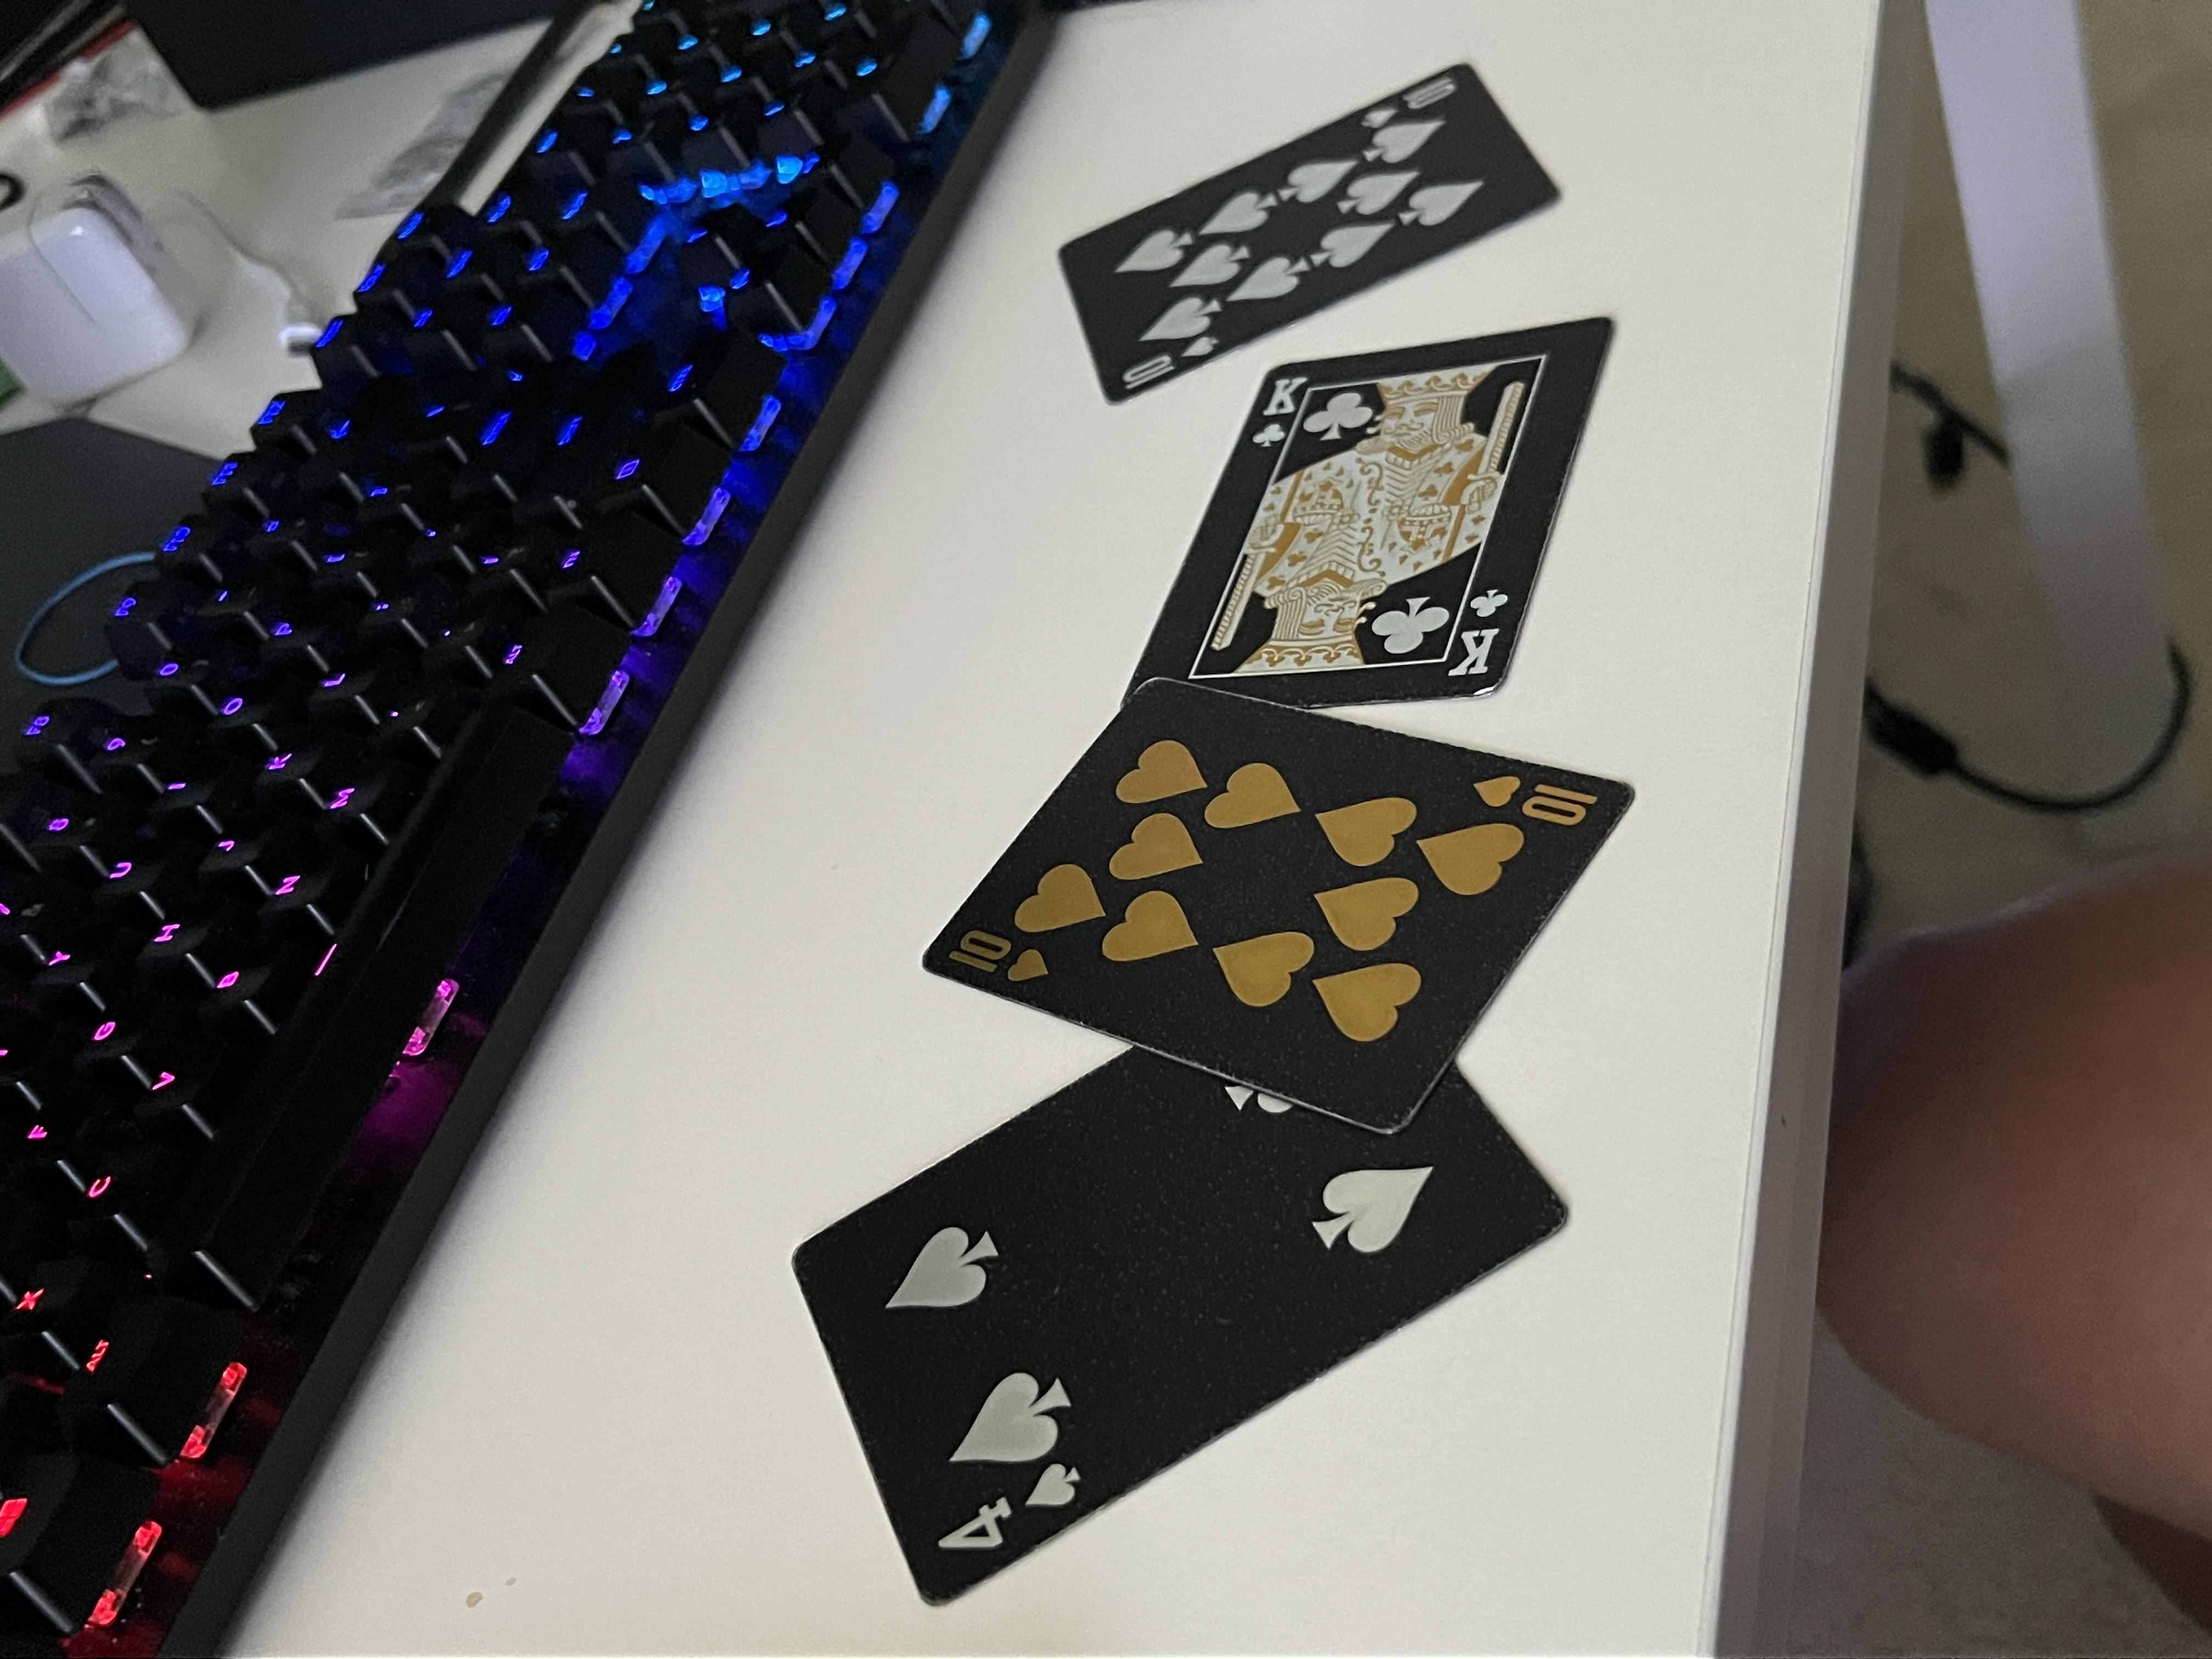10H: (1453, 763, 1609, 836), (941, 927, 1062, 1002)
10S: (1106, 324, 1228, 392), (1357, 66, 1461, 132)
4S: (930, 1459, 1080, 1568)
KC: (1449, 587, 1505, 685), (1251, 369, 1310, 451)
